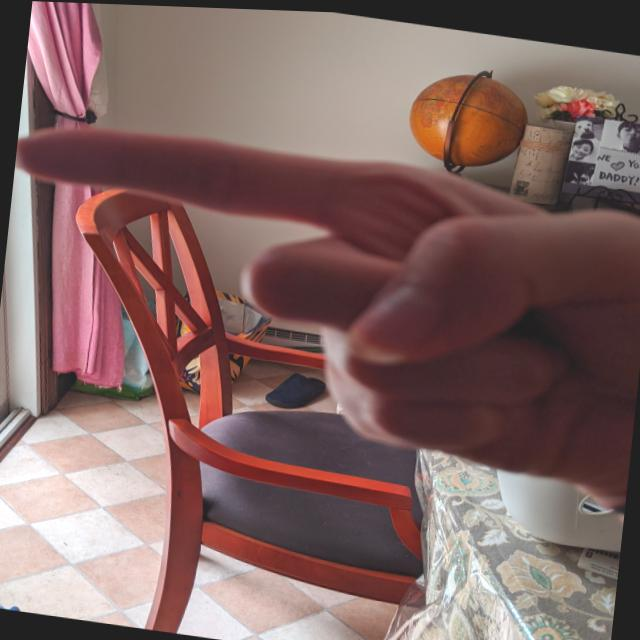G: (0, 100, 639, 501)
